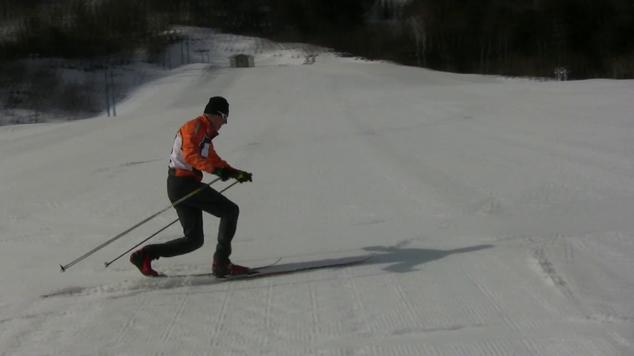walk: (160, 96, 245, 257)
